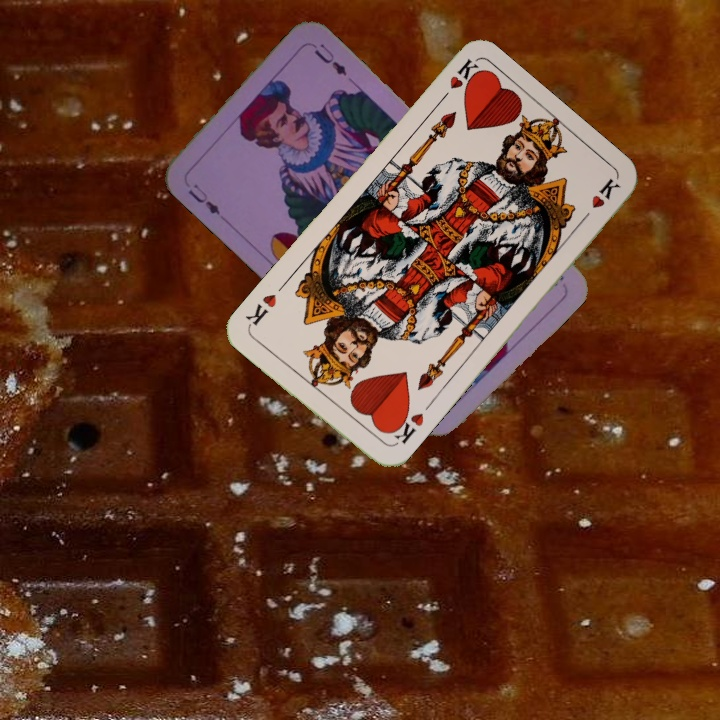EU: (184, 179, 223, 218)
HK: (434, 54, 482, 107), (385, 405, 427, 449)
